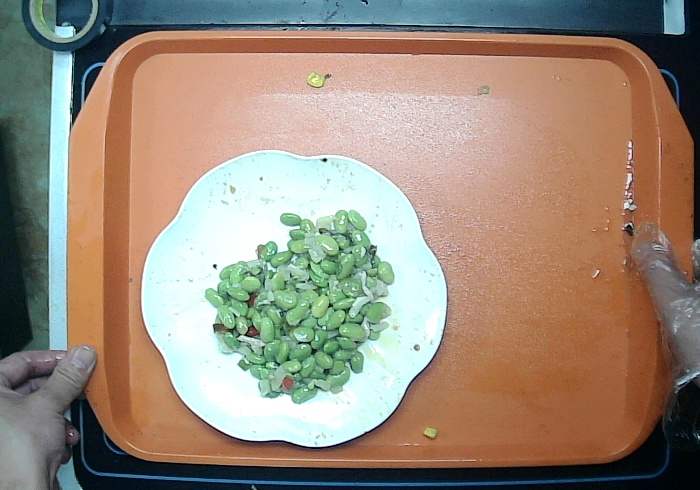HZYJPL-Bai_Se_Hua_Duo_Wan: (135, 147, 450, 454)
